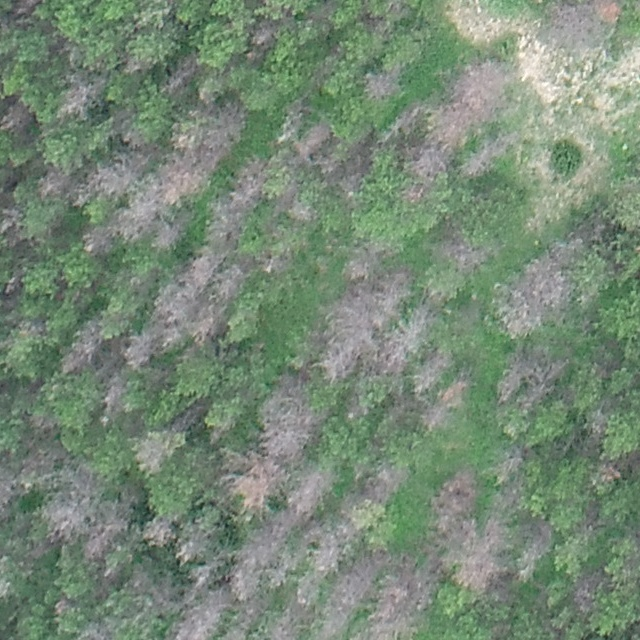unhealthy: (497, 252, 573, 336), (316, 554, 382, 637), (369, 558, 435, 638), (260, 382, 324, 461), (231, 516, 293, 596), (318, 295, 369, 388), (165, 100, 246, 156), (209, 161, 266, 239), (495, 347, 565, 409), (222, 450, 286, 510), (377, 307, 434, 373), (453, 57, 510, 116), (431, 466, 479, 530), (172, 588, 228, 639), (114, 182, 161, 242), (83, 504, 129, 563), (85, 156, 146, 199), (154, 157, 206, 206), (548, 2, 599, 46), (61, 319, 102, 372), (288, 468, 334, 515), (58, 73, 105, 118), (463, 134, 511, 177), (41, 496, 84, 544), (458, 550, 505, 592), (434, 236, 489, 271), (518, 520, 553, 575), (374, 275, 409, 329), (310, 527, 348, 576), (154, 289, 187, 345), (411, 349, 452, 394), (430, 103, 473, 144), (381, 103, 424, 142), (366, 463, 409, 501), (343, 243, 385, 281), (163, 54, 200, 97), (188, 246, 220, 294), (295, 123, 333, 163), (135, 434, 173, 473), (175, 522, 212, 562), (408, 143, 451, 176), (570, 570, 602, 614), (362, 66, 402, 101), (122, 330, 157, 369), (215, 262, 249, 302), (0, 458, 20, 525), (272, 106, 308, 142), (493, 445, 527, 483), (37, 166, 73, 201), (0, 97, 34, 134), (192, 304, 224, 343), (80, 222, 115, 257), (142, 513, 177, 547), (99, 377, 128, 418), (151, 220, 185, 252), (482, 515, 510, 552), (292, 566, 317, 607), (584, 402, 612, 437), (421, 403, 450, 432), (248, 21, 276, 49), (188, 562, 216, 590), (269, 614, 299, 640), (74, 620, 113, 640), (587, 0, 621, 22), (596, 459, 624, 485), (0, 205, 22, 238), (287, 200, 317, 223), (10, 0, 42, 18), (401, 182, 429, 202), (221, 628, 247, 640), (2, 274, 18, 292)
